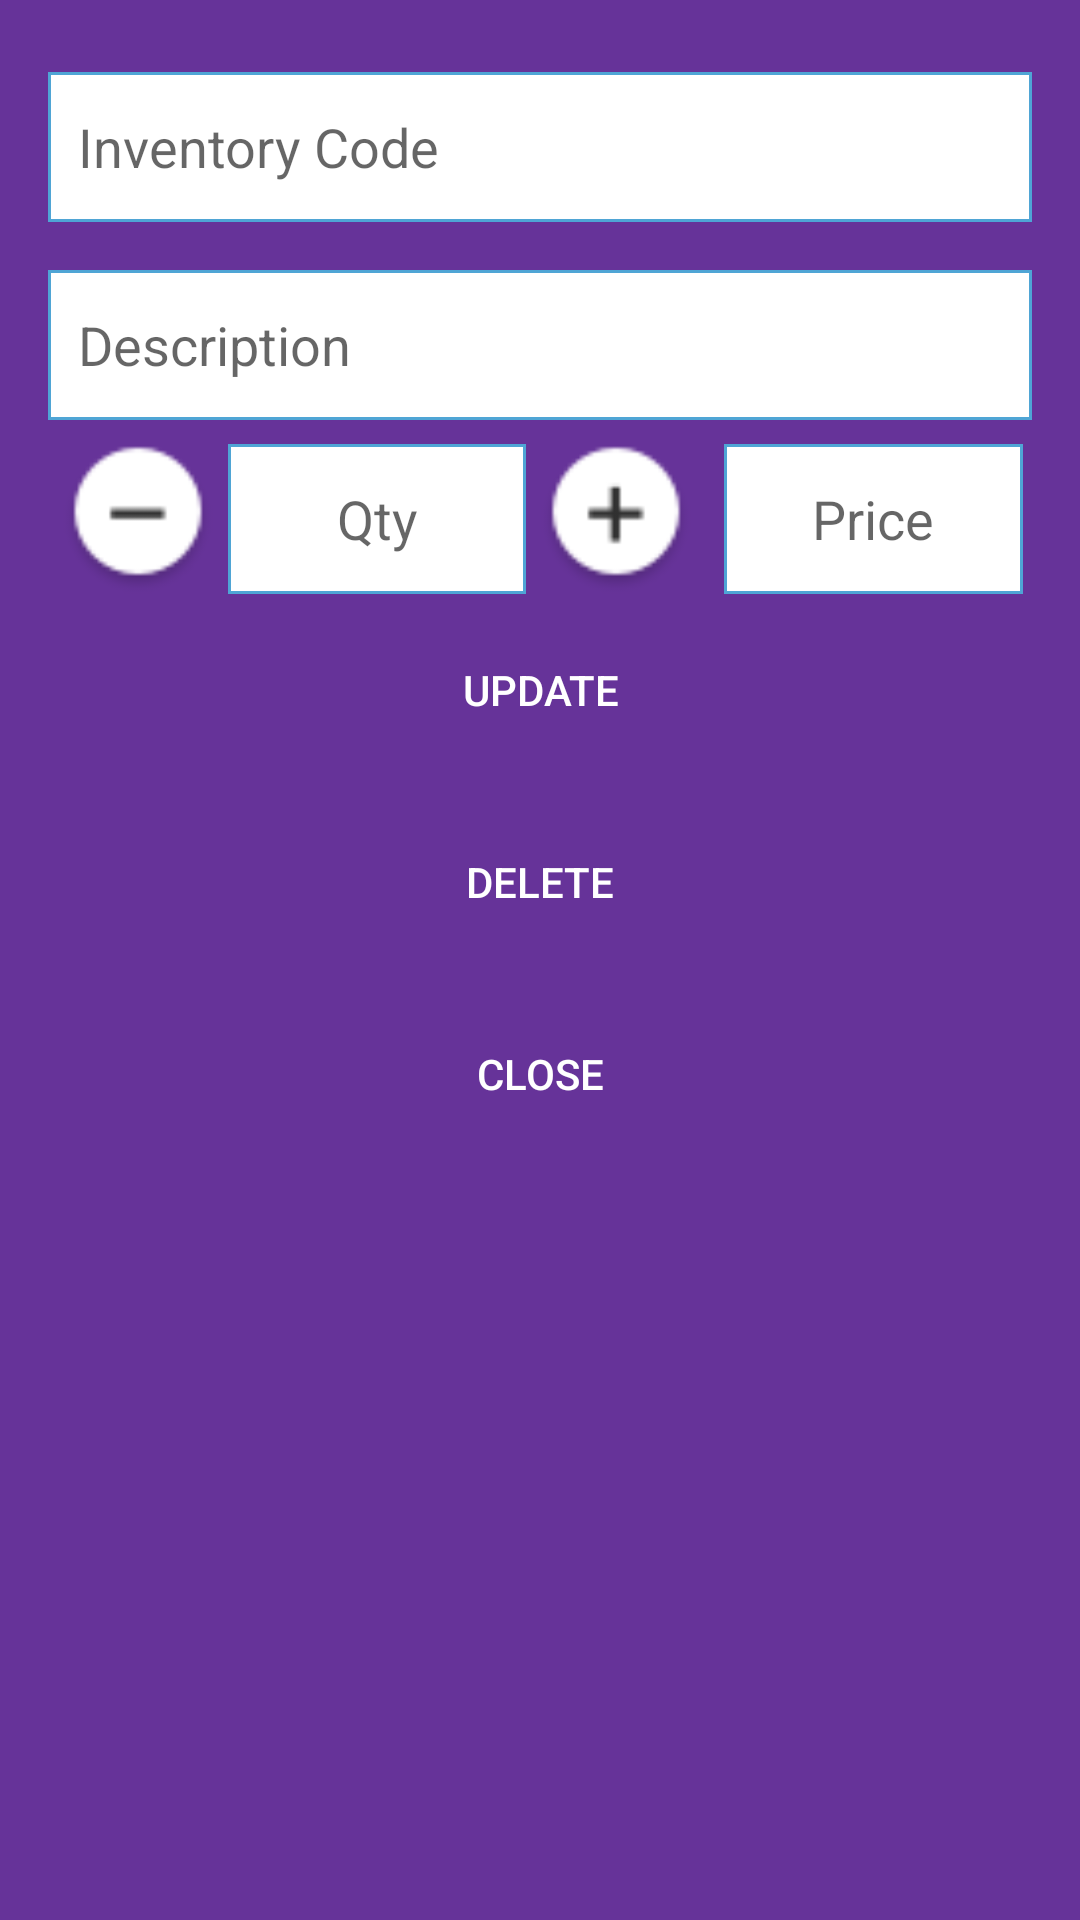

Screen size 1080 × 1920. Icon name, then its center in pixels as point (x, y):
add: point (616, 511)
remove: point (138, 511)
